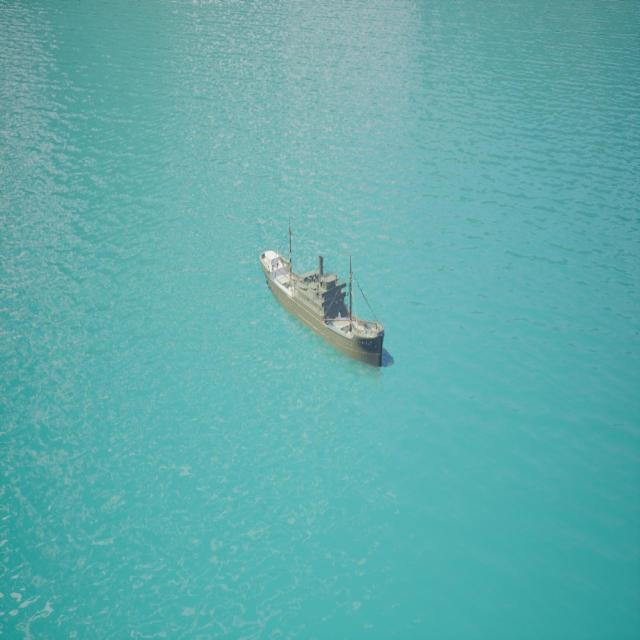fishing ship: (260, 245, 390, 373)
